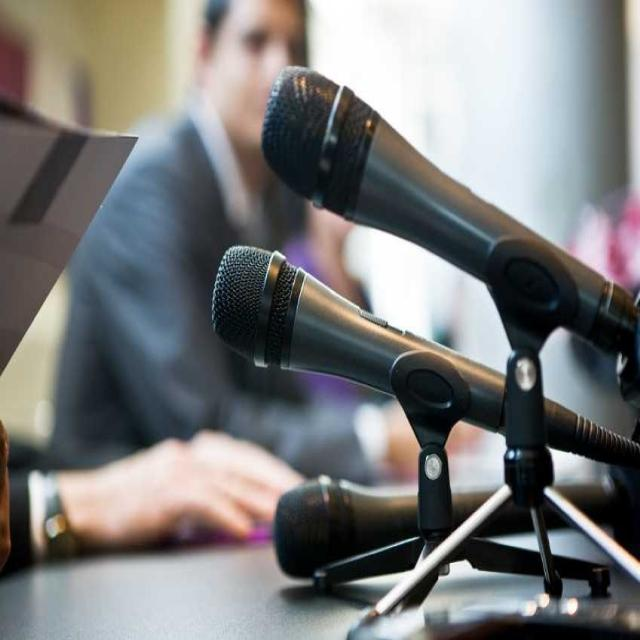microphone: (260, 56, 640, 360), (213, 246, 539, 451), (270, 458, 610, 576)
